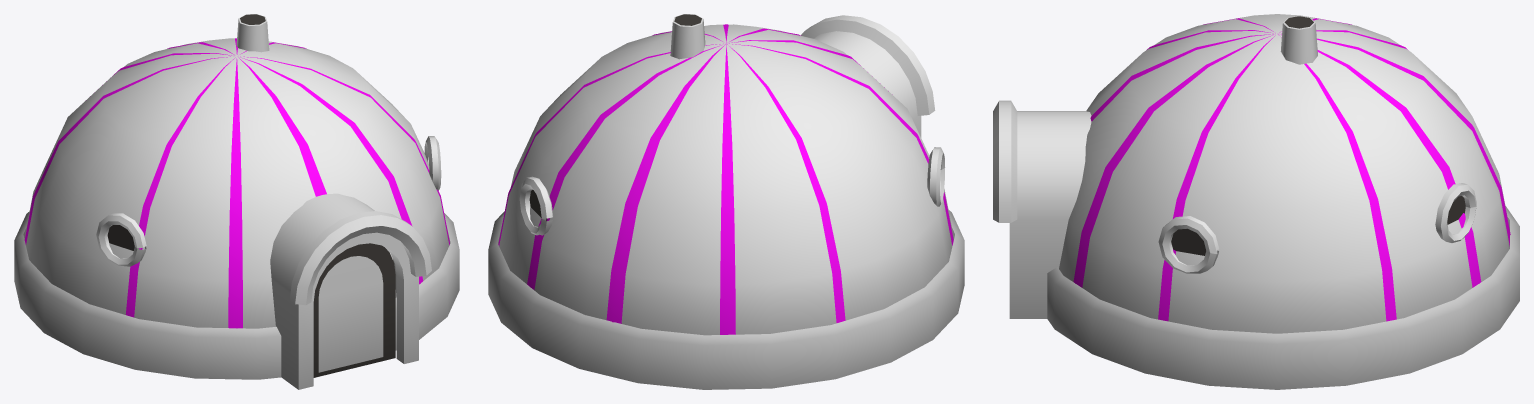
File: velothi_hut.glb
The picture shows the model from 3 angles, left to right: view 1: azimuth 30°, elevation 25°; view 2: azimuth 150°, elevation 25°; view 3: azimuth 270°, elevation 25°; orthographic projection. The views are drawn at different scales.
Parts seen in each view (by area): view 1: velothi_hut, velothi_hut_hull; view 2: velothi_hut, velothi_hut_hull; view 3: velothi_hut, velothi_hut_hull.
Part boxes in pixels (x1,y1,x2,y2): velothi_hut: (14, 14, 459, 389); velothi_hut_hull: (24, 38, 449, 328); velothi_hut: (488, 14, 964, 389); velothi_hut_hull: (498, 24, 953, 334); velothi_hut: (993, 14, 1519, 389); velothi_hut_hull: (1073, 18, 1510, 321).
Bounding box in the file's own units: 8.96 × 5.61 × 9.63.
